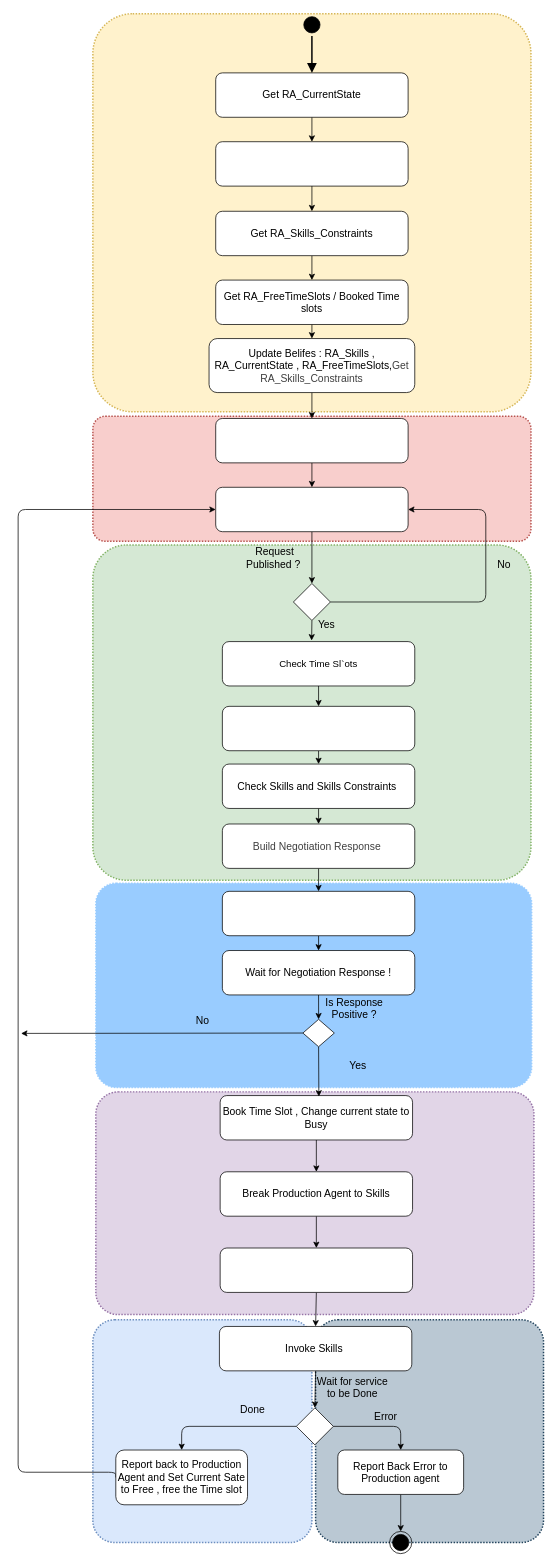
Some shapes in this 557 by 1567 pixel diagram are drawn without their labels. Here are the shapes that lost their labels. From the top down, the centre of each, then its label:
At pixel 311 163: "Get RA_Skills".
At pixel 311 440: "Subscribe to ProductionAgent_Request Topic".
At pixel 311 509: "Wait for Production Agent to Publish request".
At pixel 318 728: "Check Current State".
At pixel 318 913: "Send Negotiation Response".
At pixel 316 1269: "Set Skills Order".
